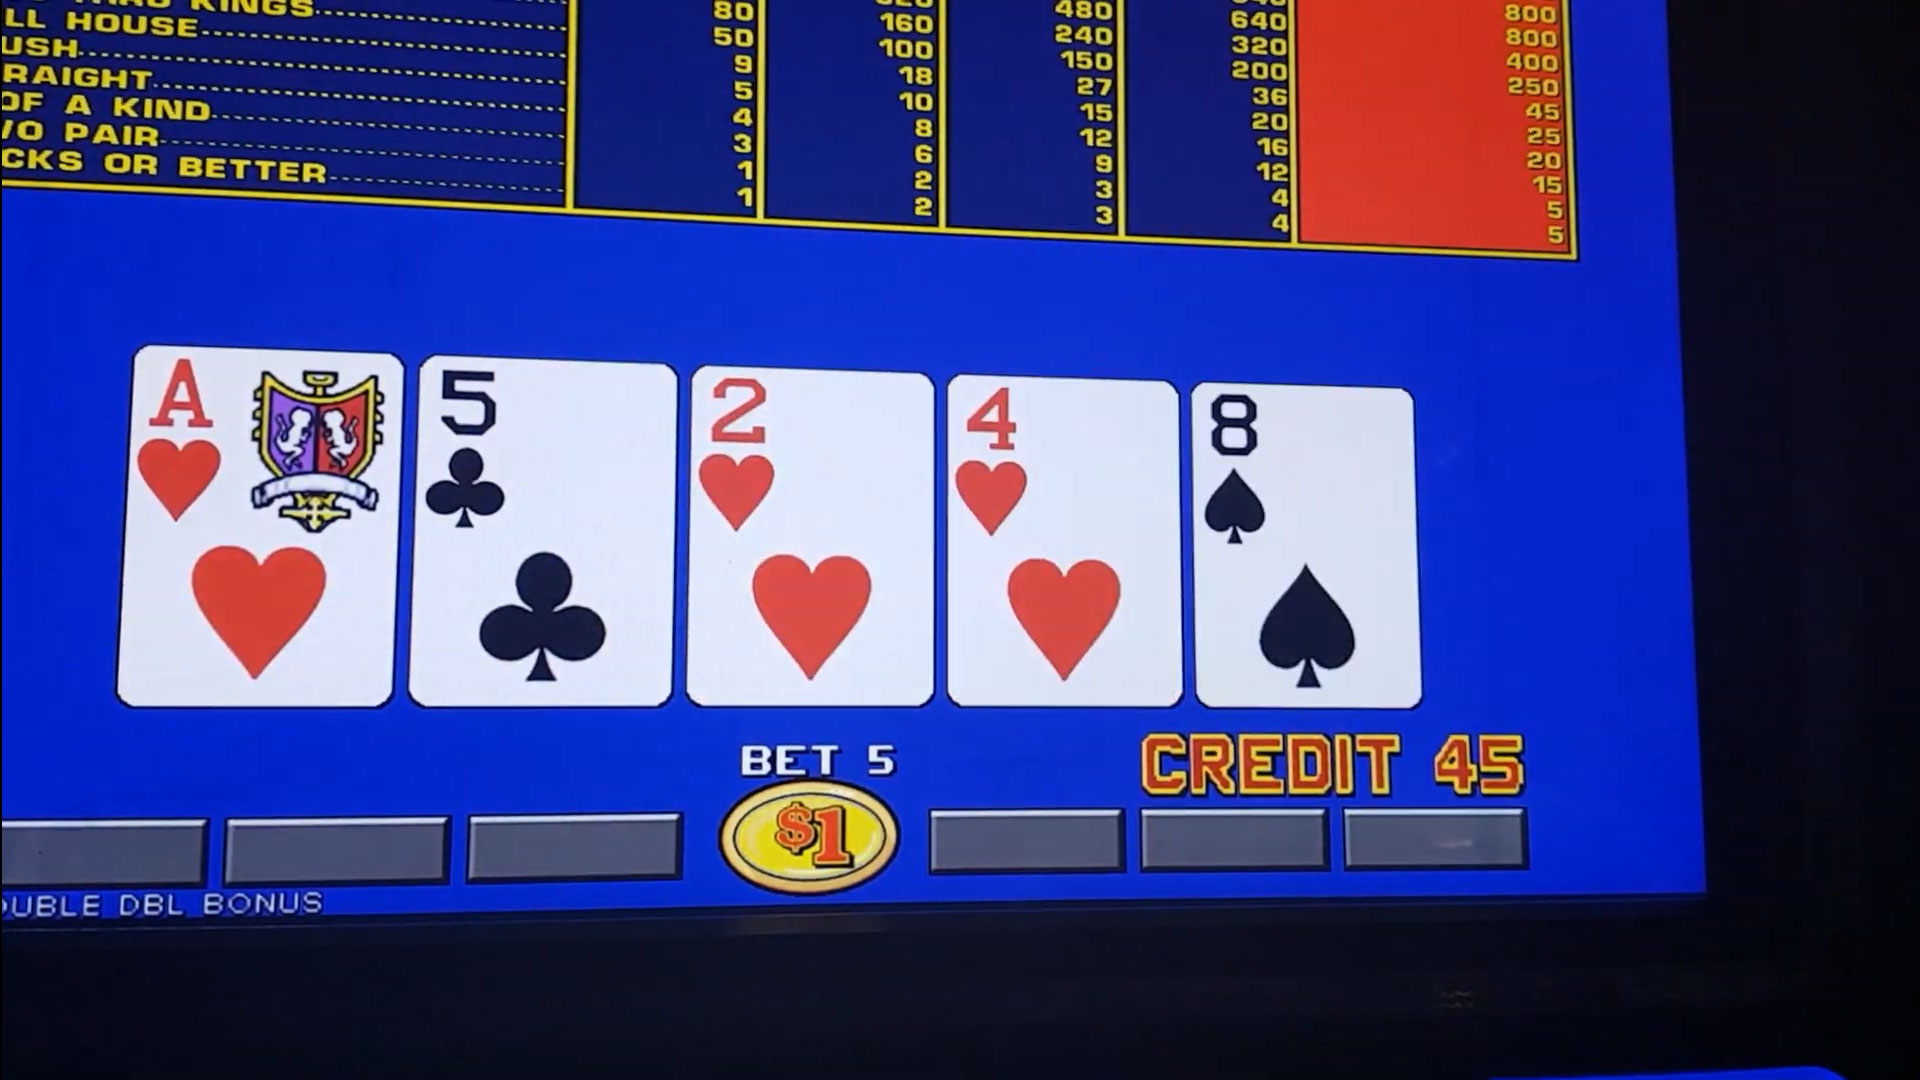C5: (426, 367, 666, 543)
H2: (694, 378, 927, 545)
H4: (951, 386, 1172, 551)
HA: (142, 357, 389, 531)
S8: (1196, 382, 1410, 560)
